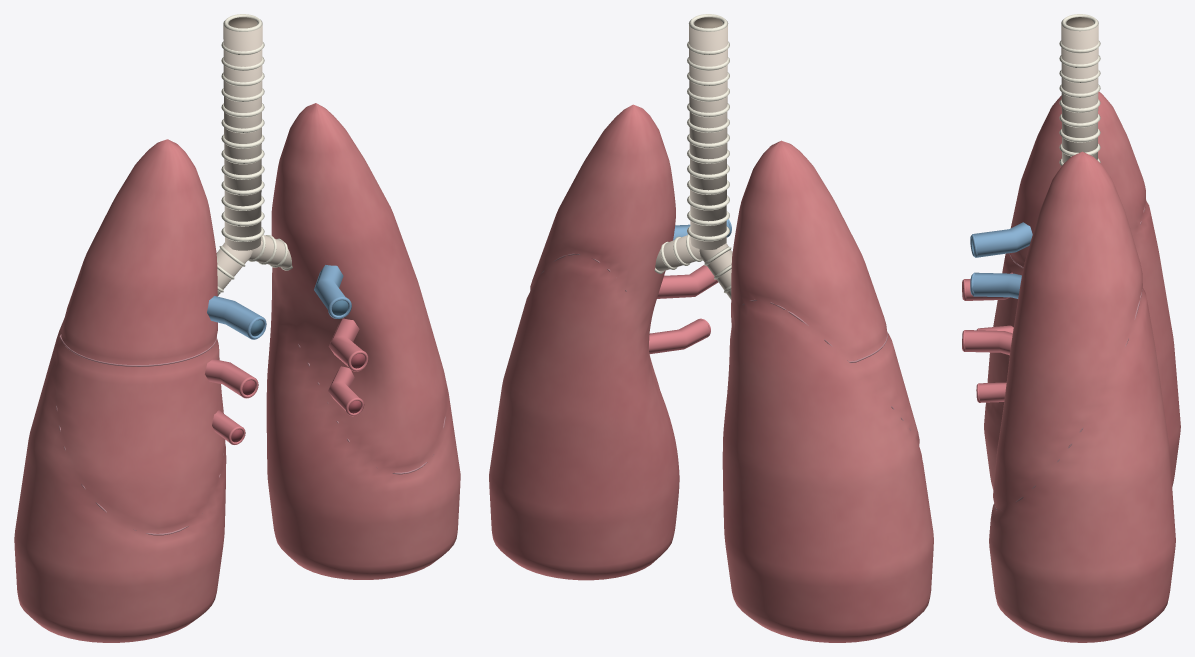
Rendered from paired_human_lungs.glb.
3 renders of one model, left to right at view 1: azimuth 30°, elevation 25°; view 2: azimuth 150°, elevation 25°; view 3: azimuth 270°, elevation 25°, orthographic. The views are drawn at different scales.
Parts seen in each view (by area): view 1: model; view 2: model; view 3: model.
Boxes of the visible parts, left/top/right/bottom form: model: left=14, top=14, right=460, bottom=642; model: left=489, top=14, right=933, bottom=642; model: left=962, top=14, right=1180, bottom=642.
Size of the model in its own units: 0.1952 by 0.25 by 0.0925.
9 materials, 1 textured.
